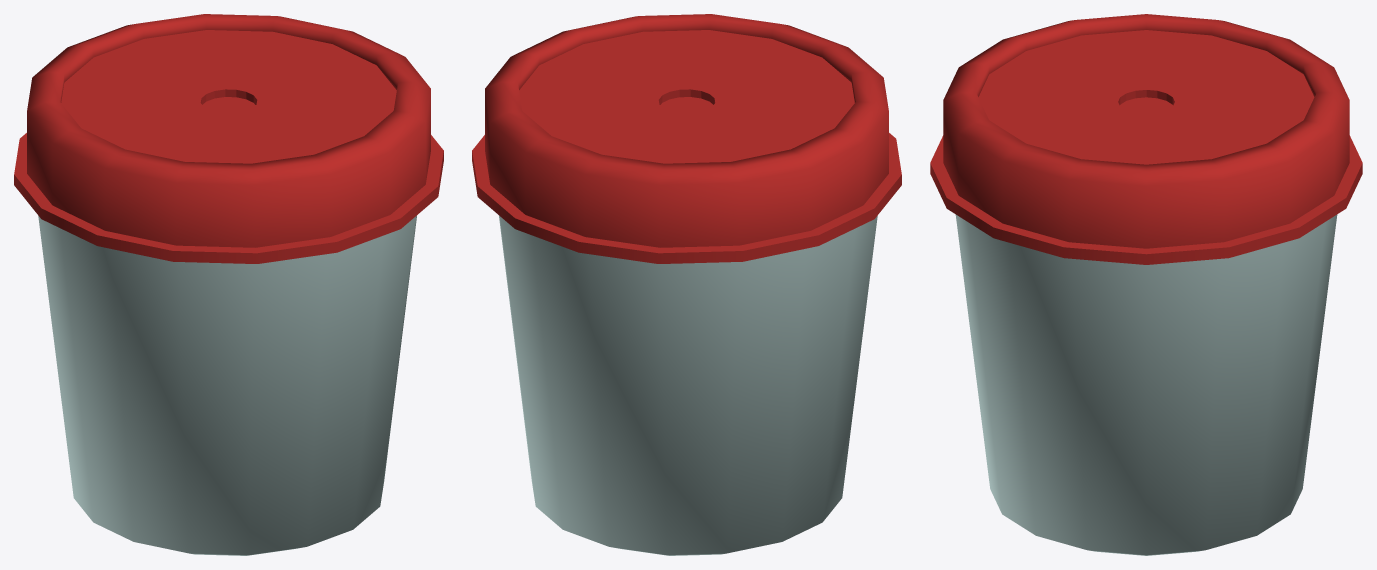
The model's file is Frasco.fbx.
3 renders of one model, left to right at view 1: azimuth 30°, elevation 25°; view 2: azimuth 150°, elevation 25°; view 3: azimuth 270°, elevation 25°, orthographic.
Parts seen in each view (by area): view 1: FrascoColeta; view 2: FrascoColeta; view 3: FrascoColeta.
Boxes of the visible parts, bbox=[...] form: FrascoColeta: bbox=[14, 14, 443, 555]; FrascoColeta: bbox=[472, 14, 901, 555]; FrascoColeta: bbox=[930, 14, 1362, 555].
Size of the model in its own units: 52.36 by 54.39 by 52.36.
